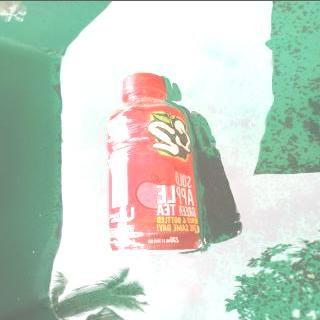bottle: (106, 73, 200, 256)
